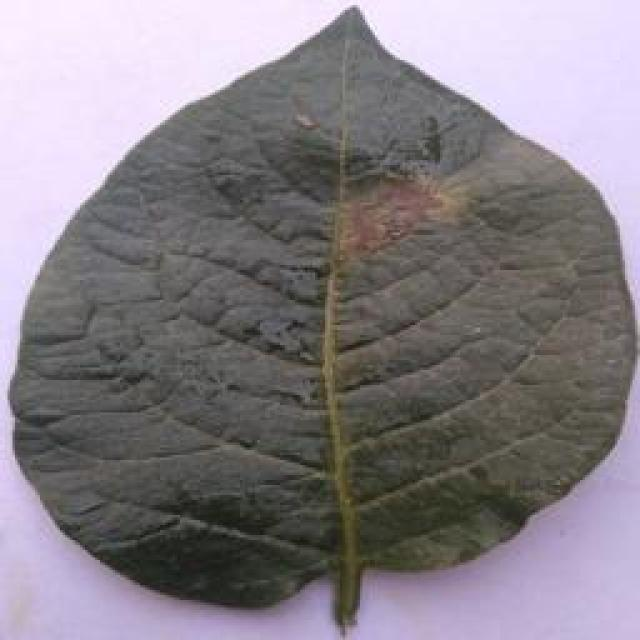Potato_Late_Blight: (2, 5, 634, 633)
